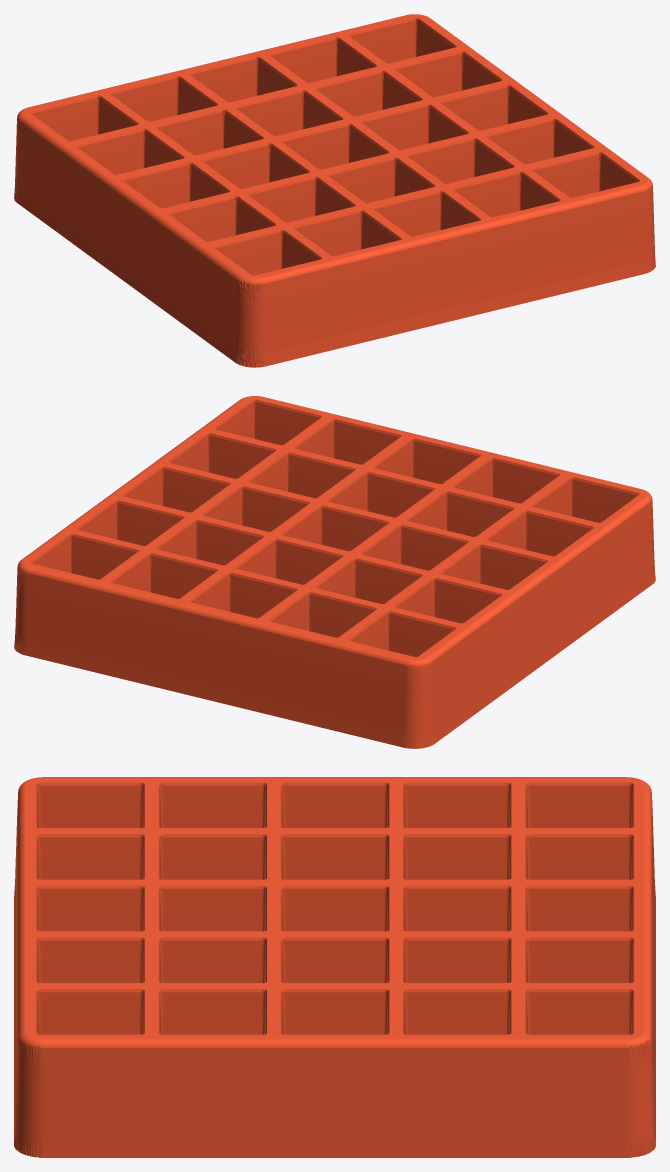
File: mold.glb
3 renders of one model, top to bottom at view 1: azimuth 30°, elevation 25°; view 2: azimuth 150°, elevation 25°; view 3: azimuth 270°, elevation 25°, orthographic. The views are drawn at different scales.
Parts seen in each view (by area): view 1: geometry_0; view 2: geometry_0; view 3: geometry_0.
Boxes of the visible parts, left/top/right/bottom form: geometry_0: left=14, top=14, right=655, bottom=367; geometry_0: left=14, top=396, right=655, bottom=748; geometry_0: left=14, top=777, right=655, bottom=1157.
Bounding box in the file's own units: 0.193 × 0.0377 × 0.193.
